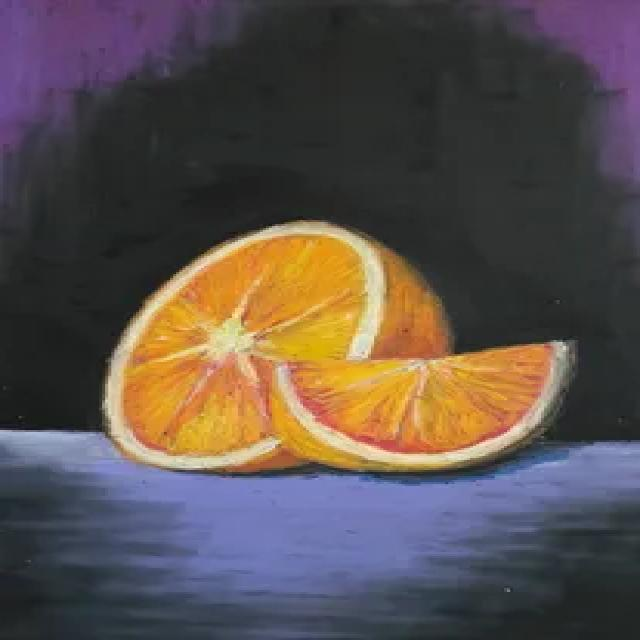orange: (87, 216, 448, 494)
